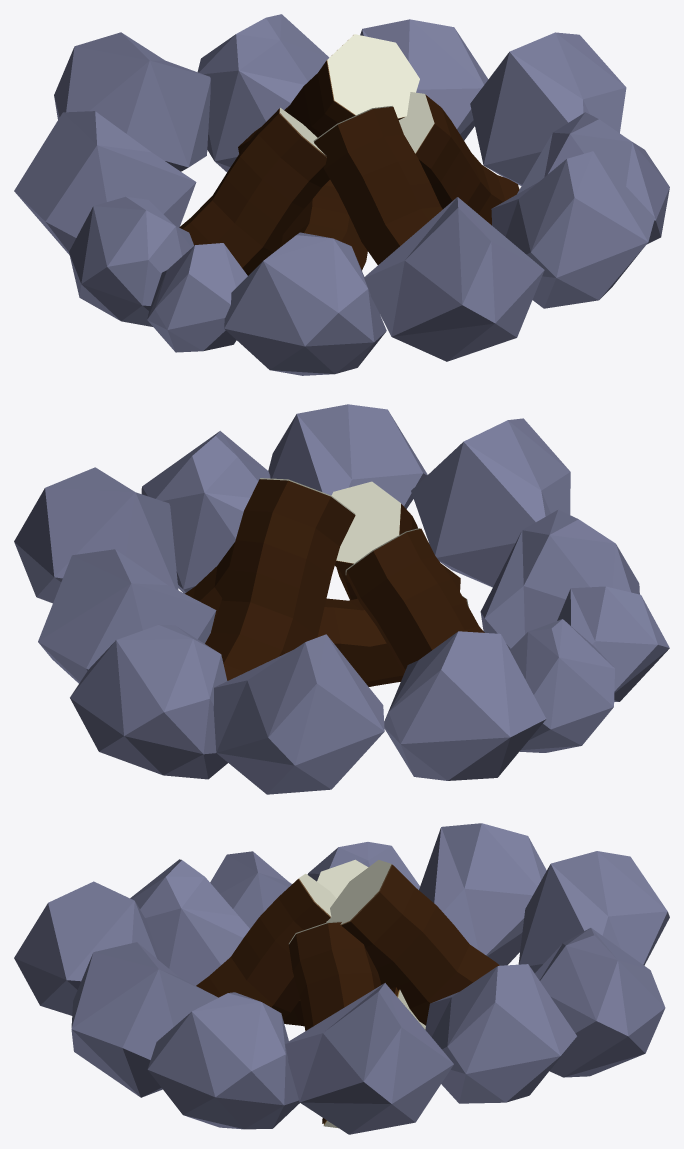
Rendered from Bonefire.fbx.
3 renders of one model, top to bottom at view 1: azimuth 30°, elevation 25°; view 2: azimuth 150°, elevation 25°; view 3: azimuth 270°, elevation 25°, orthographic. The views are drawn at different scales.
Visible parts, largest first — view 1: Bonefire; view 2: Bonefire; view 3: Bonefire.
Part boxes in pixels (x1,y1,x2,y2): Bonefire: (14, 14, 669, 375); Bonefire: (14, 404, 669, 794); Bonefire: (14, 823, 669, 1134).
Size of the model in its own units: 267 by 108 by 287.
